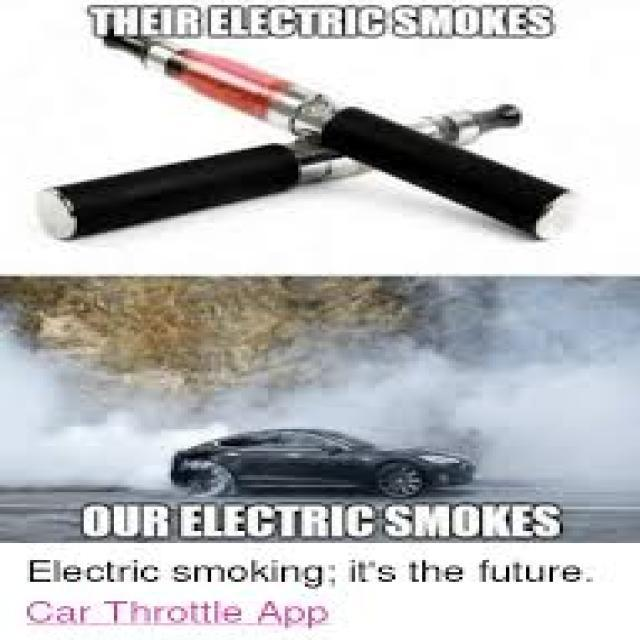Smoke: (17, 308, 640, 502)
